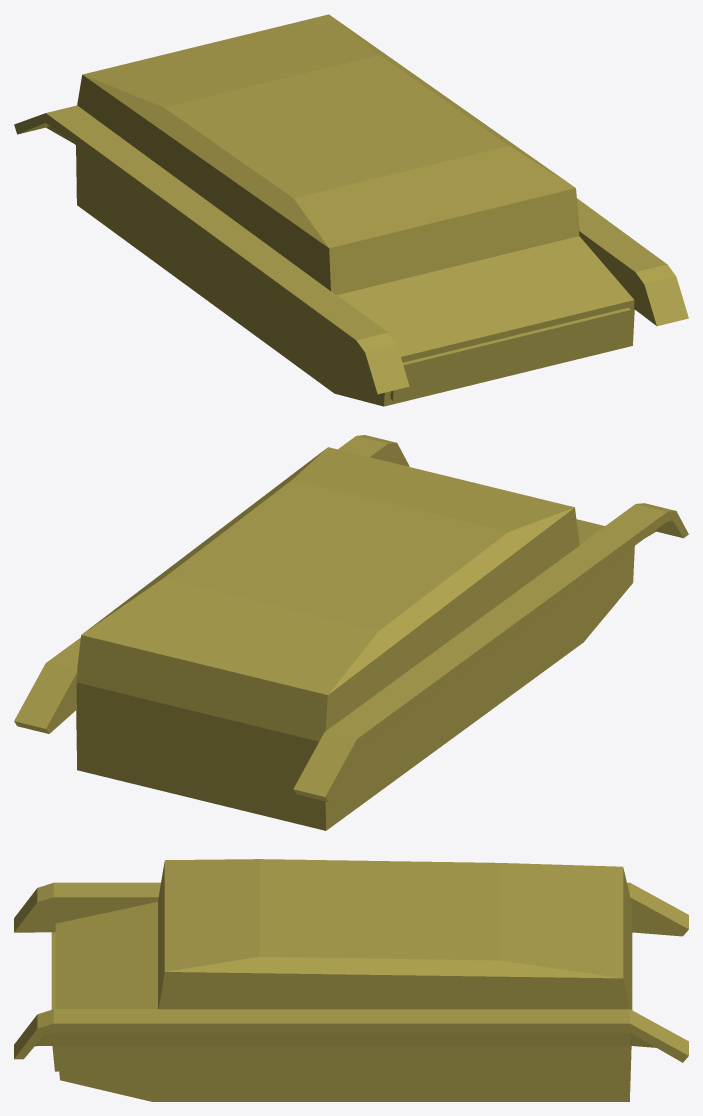
The model's file is Panzer4 Body.fbx.
The picture shows the model from 3 angles, top to bottom: view 1: azimuth 30°, elevation 25°; view 2: azimuth 150°, elevation 25°; view 3: azimuth 270°, elevation 25°; orthographic projection. The views are drawn at different scales.
Parts seen in each view (by area): view 1: Body; view 2: Body; view 3: Body.
Boxes of the visible parts, x1=… form: Body: x1=14, y1=14, x2=688, y2=406; Body: x1=14, y1=435, x2=688, y2=830; Body: x1=14, y1=859, x2=688, y2=1101.
Bounding box in the file's own units: 436 × 199 × 882.
